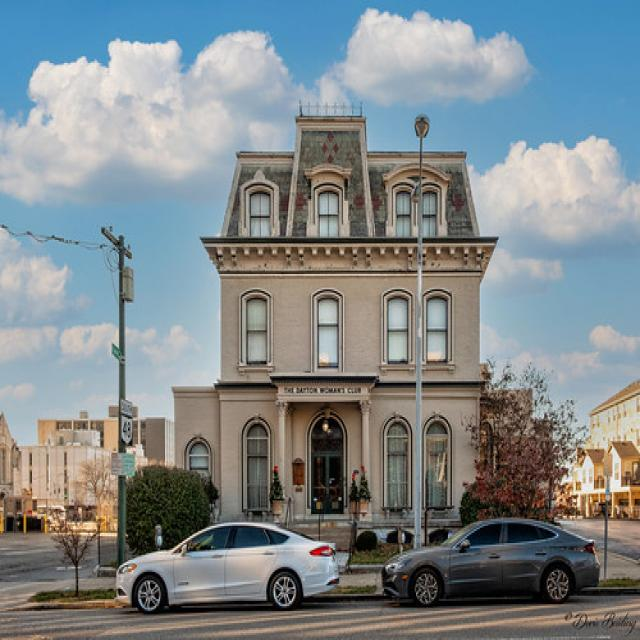Normal_building: (196, 100, 503, 570)
